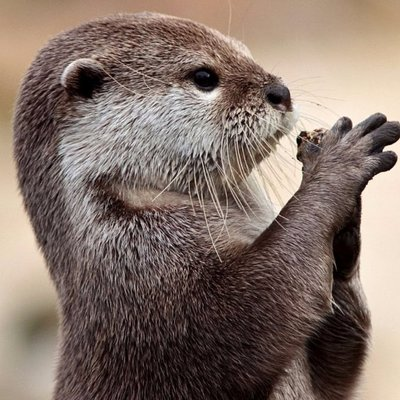otter: (10, 3, 396, 400)
